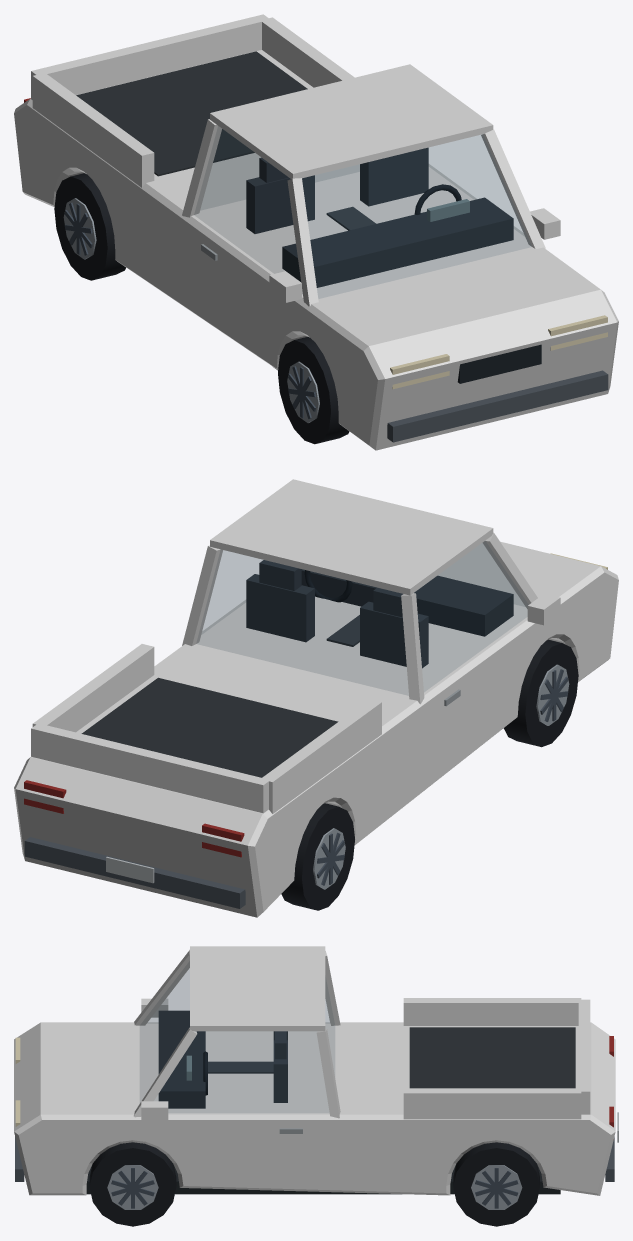
File: source.glb
3 views of the same model, one above another, from view 1: azimuth 30°, elevation 25°; view 2: azimuth 150°, elevation 25°; view 3: azimuth 270°, elevation 25° (orthographic). The views are drawn at different scales.
Visible parts, largest first — view 1: body, windows, wheel-mesh (×2); view 2: body, windows, wheel-mesh (×2); view 3: body, windows, wheel-mesh (×2).
Part boxes in pixels (<box>): body: <box>14,14,618,450</box>; windows: <box>195,127,531,298</box>; wheel-mesh (×2): <box>54,173,349,444</box>; body: <box>14,479,618,917</box>; windows: <box>197,542,527,694</box>; wheel-mesh (×2): <box>281,639,578,910</box>; body: <box>14,946,618,1195</box>; windows: <box>140,962,334,1112</box>; wheel-mesh (×2): <box>89,1142,539,1226</box>.
Bounding box in the file's own units: 2.2 × 1.8 × 5.16.
